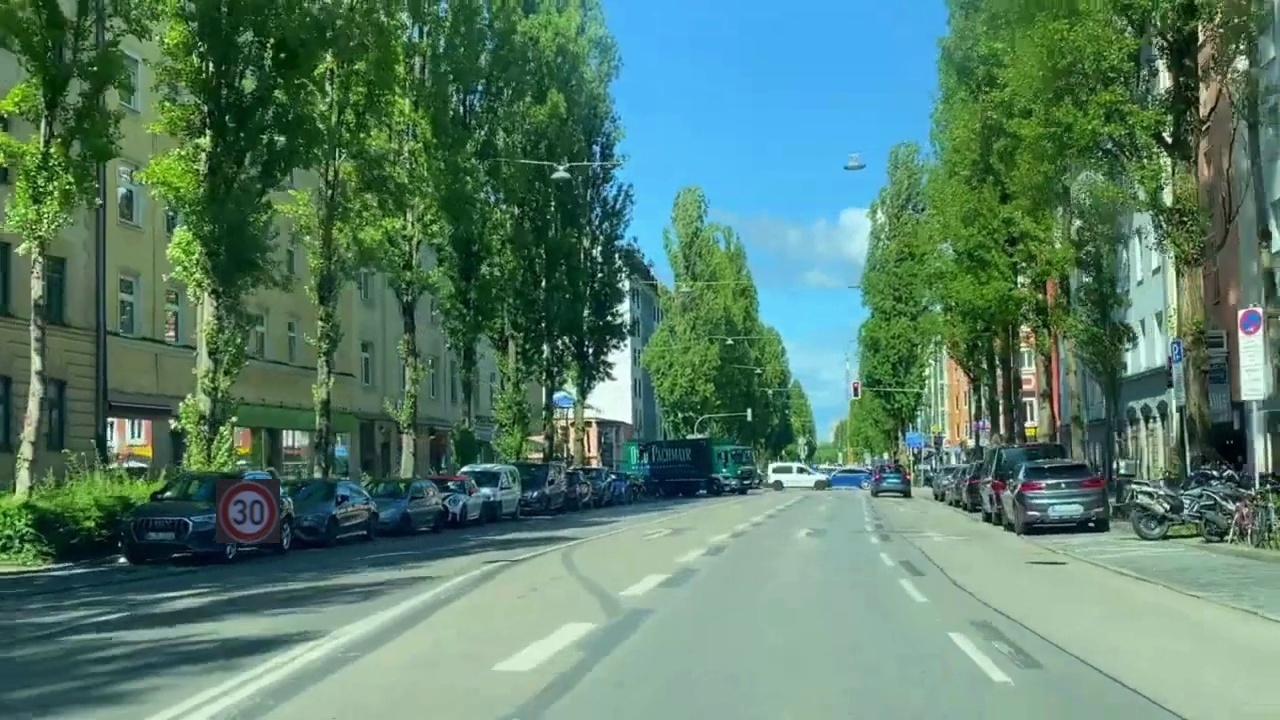Speed 30: (216, 479, 280, 543)
